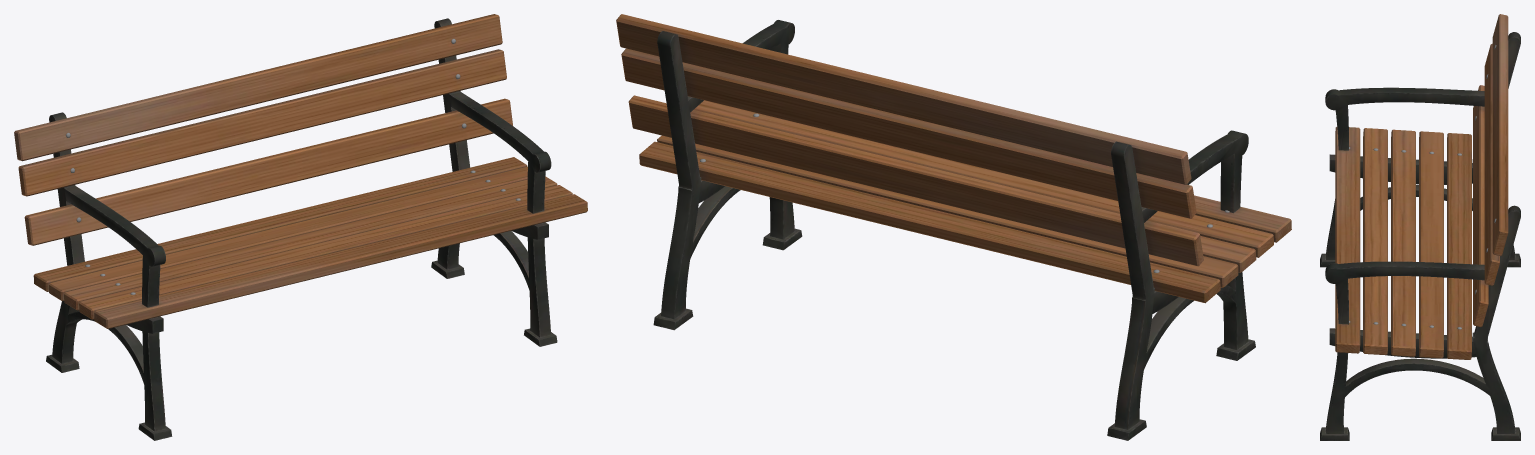
The model's file is park_bench.glb.
The picture shows the model from 3 angles, left to right: view 1: azimuth 30°, elevation 25°; view 2: azimuth 150°, elevation 25°; view 3: azimuth 270°, elevation 25°; orthographic projection. The views are drawn at different scales.
Parts seen in each view (by area): view 1: park-bench_body; view 2: park-bench_body; view 3: park-bench_body.
Part boxes in pixels (x1,y1,x2,y2): park-bench_body: (14, 14, 587, 440); park-bench_body: (616, 14, 1291, 440); park-bench_body: (1320, 14, 1520, 440).
Bounding box in the file's own units: 1.8 × 0.8843 × 0.7041.
Materials: 1 (1 with a texture image).
